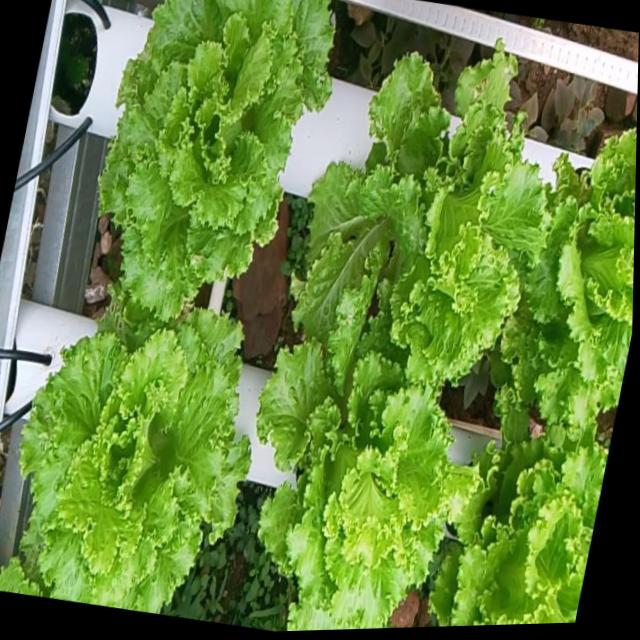Mature: (303, 42, 561, 382), (0, 304, 263, 614), (111, 0, 344, 318), (269, 319, 480, 631), (443, 415, 612, 626), (515, 121, 637, 413)
